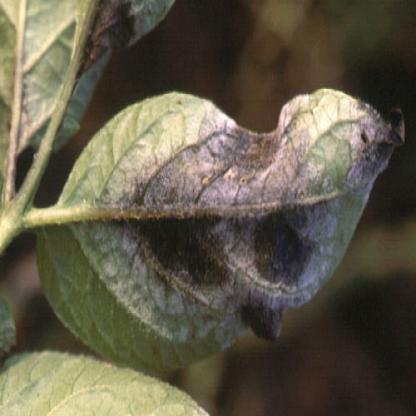Potato leaf late blight: (28, 85, 409, 365)
